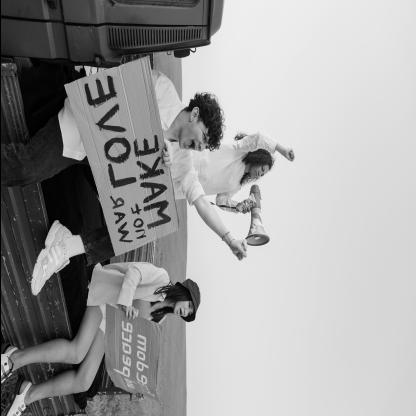Eye: (202, 132, 206, 141), (187, 301, 190, 309), (260, 166, 262, 172), (204, 146, 206, 150), (187, 312, 189, 315), (260, 174, 262, 176)
Mouth: (184, 139, 196, 150), (176, 308, 182, 315), (254, 171, 257, 177)
Nose: (198, 142, 204, 152), (183, 308, 187, 315), (257, 172, 261, 176)
